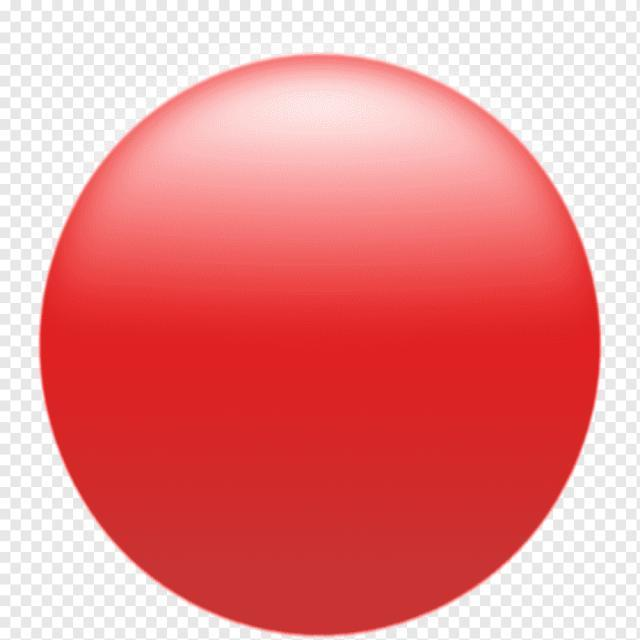redcircle: (38, 54, 603, 638)
